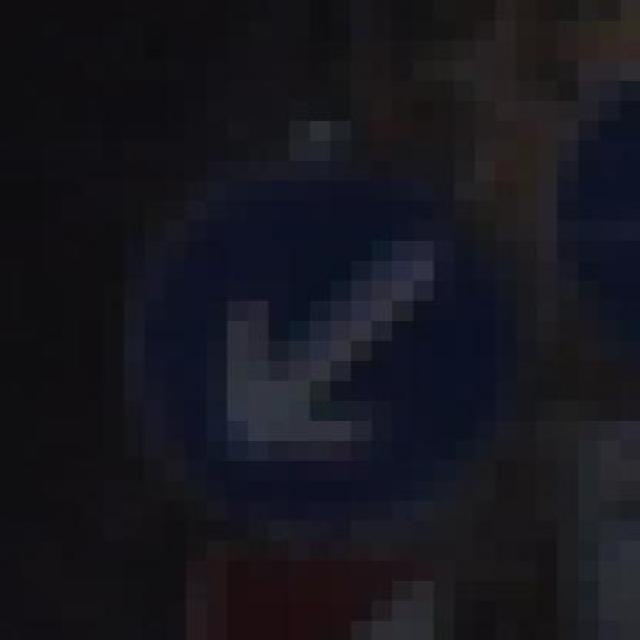Keep-Left: (124, 100, 558, 540)
